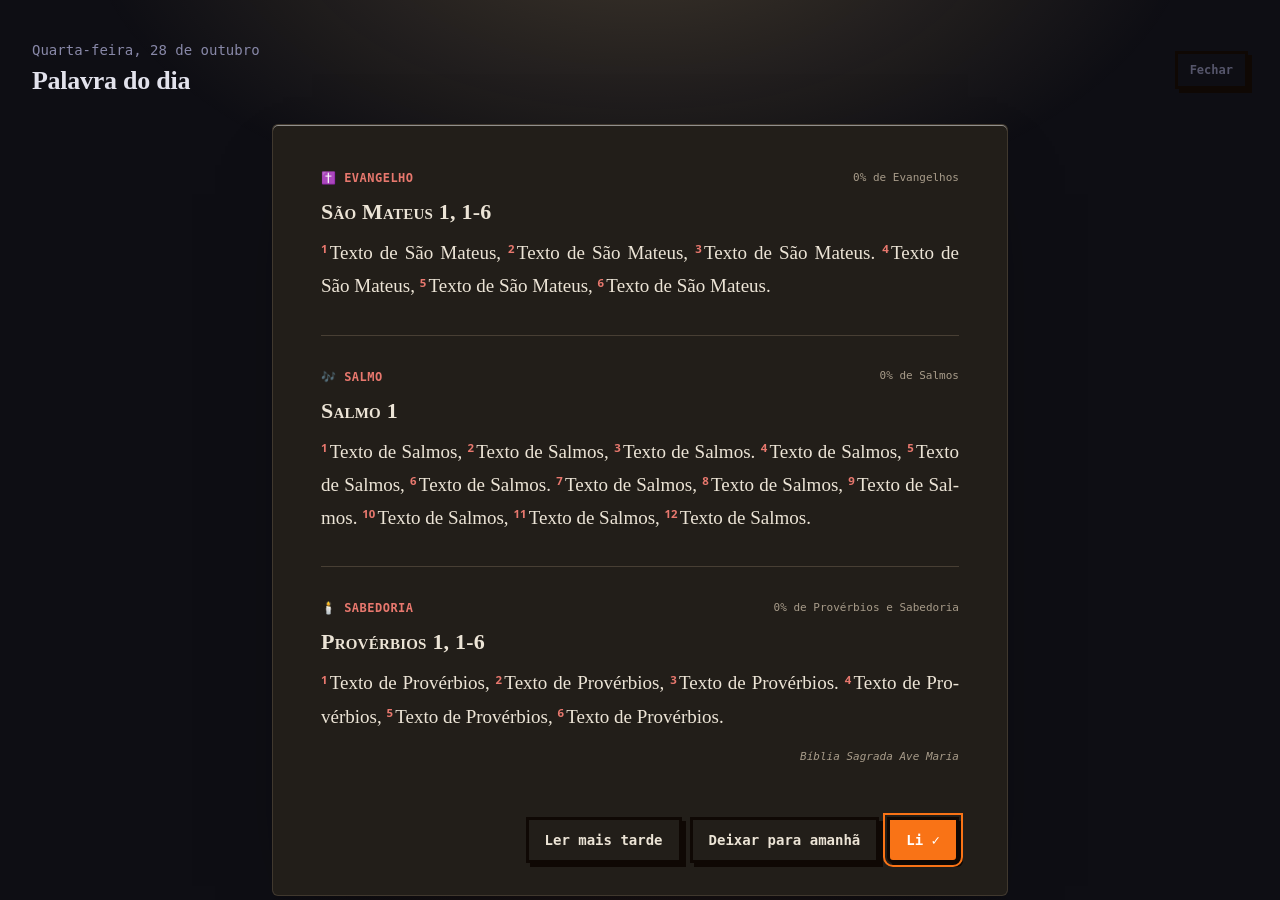
Test: Palavra do dia (tela) › mostra uma passagem por trilha e 'Li' registra e avança
Expected: the heading "São Mateus 1, 1-6" is shown, [321,199,492,224]
Expected: the heading "Salmo 1" is shown, [321,398,398,422]
Click the button "Li ✓": click(923, 840) [887,817,959,863]
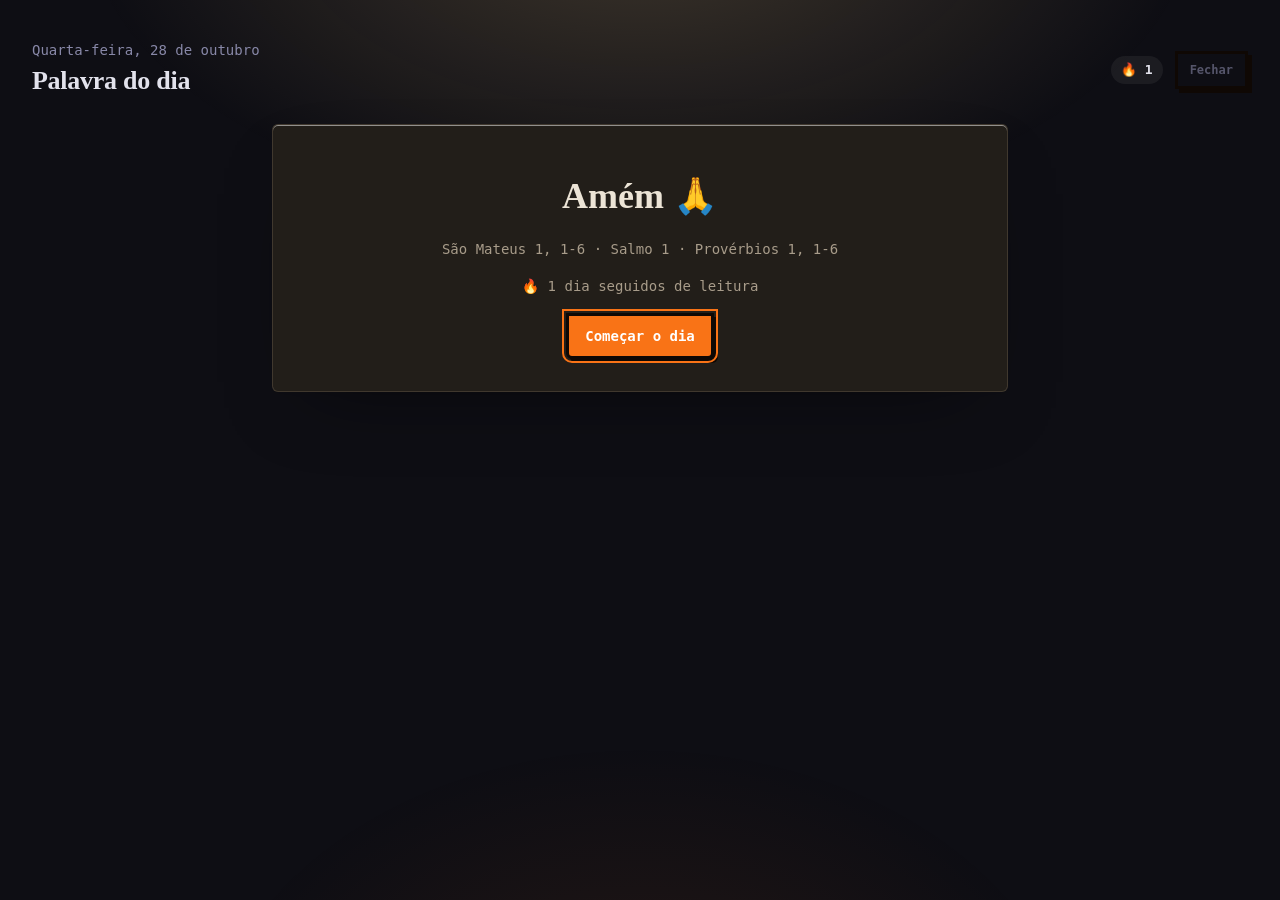
Result: the text "Amém 🙏" is shown at [562,169,718,223]
